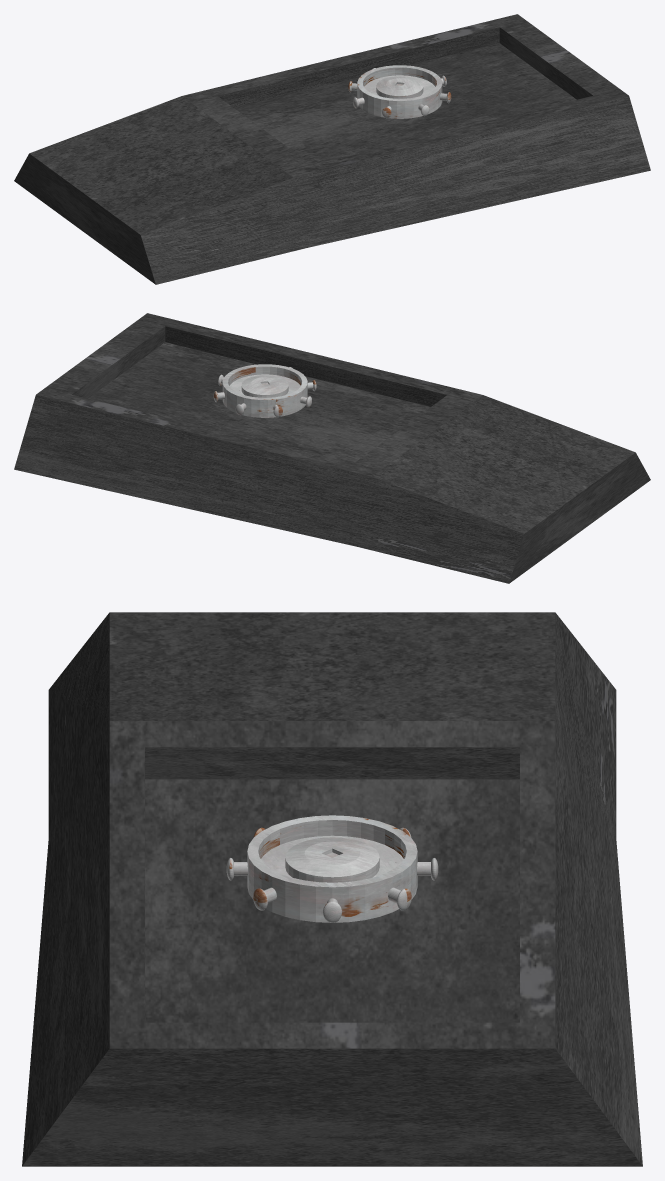
The model's file is bunker.glb.
3 views of the same model, one above another, from view 1: azimuth 30°, elevation 25°; view 2: azimuth 150°, elevation 25°; view 3: azimuth 270°, elevation 25° (orthographic). The views are drawn at different scales.
Visible parts, largest first — view 1: Bunker, Wheel; view 2: Bunker, Wheel; view 3: Bunker, Wheel.
Boxes of the visible parts, <box> form: Bunker: <box>14,14,650,284</box>; Wheel: <box>348,65,451,118</box>; Bunker: <box>14,313,650,583</box>; Wheel: <box>213,364,316,417</box>; Bunker: <box>22,612,642,1166</box>; Wheel: <box>226,815,438,922</box>.
Bounding box in the file's own units: 5.06 × 0.722 × 2.78.
2 materials, 2 textured.
